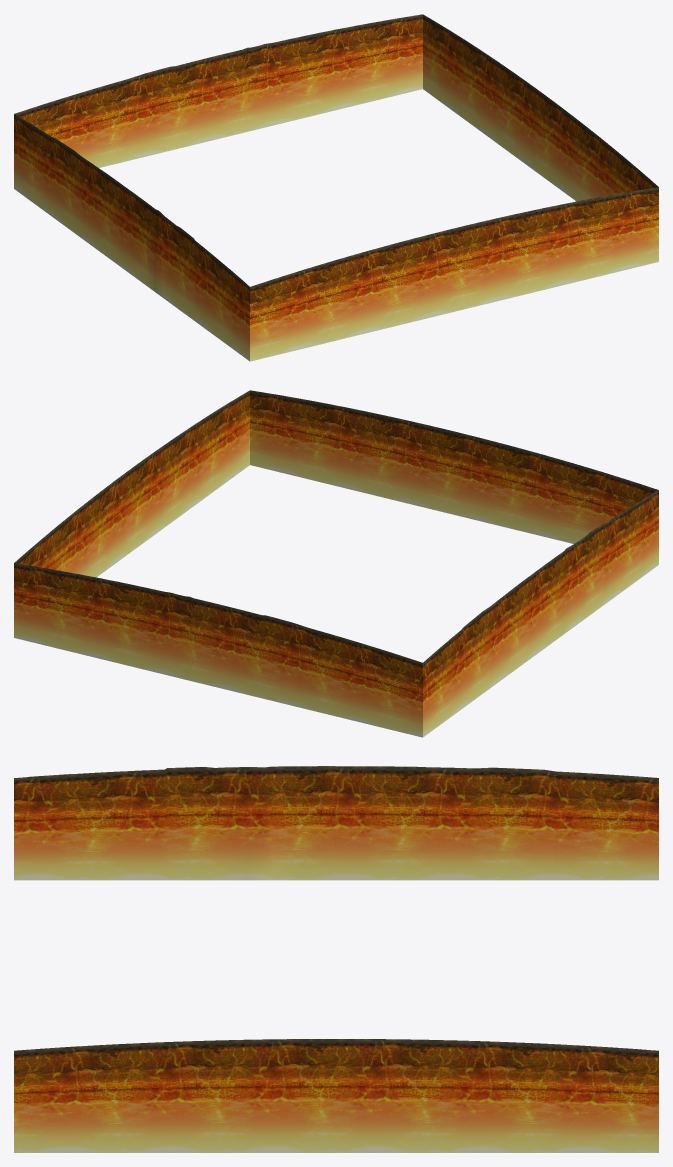
3 views of the same model, one above another, from view 1: azimuth 30°, elevation 25°; view 2: azimuth 150°, elevation 25°; view 3: azimuth 270°, elevation 25° (orthographic). The views are drawn at different scales.
Visible parts, largest first — view 1: Joint_0_Object_1; view 2: Joint_0_Object_1; view 3: Joint_0_Object_1.
Part boxes in pixels (box(x1,y1,x2,y2)): Joint_0_Object_1: box(14, 14, 658, 361); Joint_0_Object_1: box(14, 390, 658, 737); Joint_0_Object_1: box(14, 766, 658, 1152).
Bounding box in the file's own units: 10000 × 1967 × 10000.
